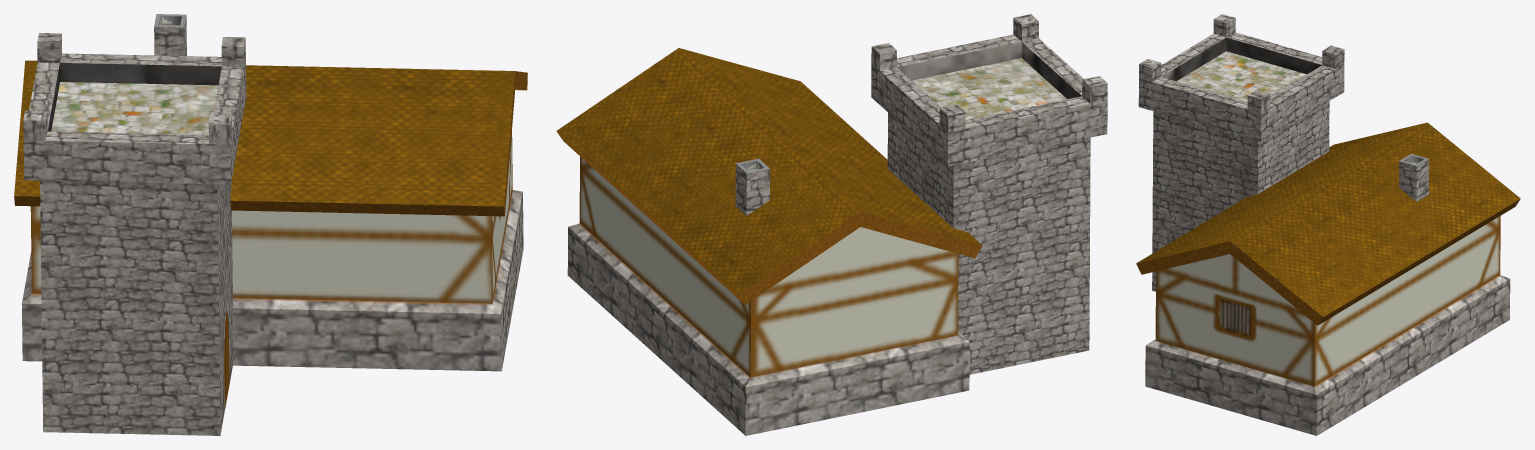
The model's file is townhall_try3.gltf.
3 renders of one model, left to right at view 1: azimuth 30°, elevation 25°; view 2: azimuth 150°, elevation 25°; view 3: azimuth 270°, elevation 25°, orthographic. The views are drawn at different scales.
Parts seen in each view (by area): view 1: something; view 2: something; view 3: something.
Part boxes in pixels (bbox=[...]): something: bbox=[14, 14, 527, 435]; something: bbox=[556, 14, 1107, 435]; something: bbox=[1136, 14, 1520, 435].
Bounding box in the file's own units: 3.78 × 2.02 × 3.07.
1 material, 1 textured.
